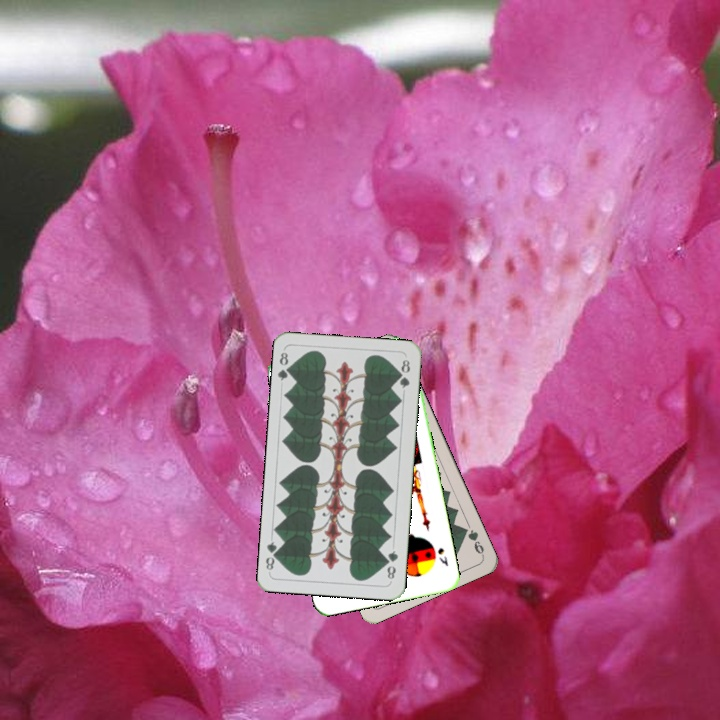G8: (274, 348, 295, 383), (382, 546, 401, 584)
G9: (458, 523, 487, 559)
SK: (434, 543, 451, 569)
